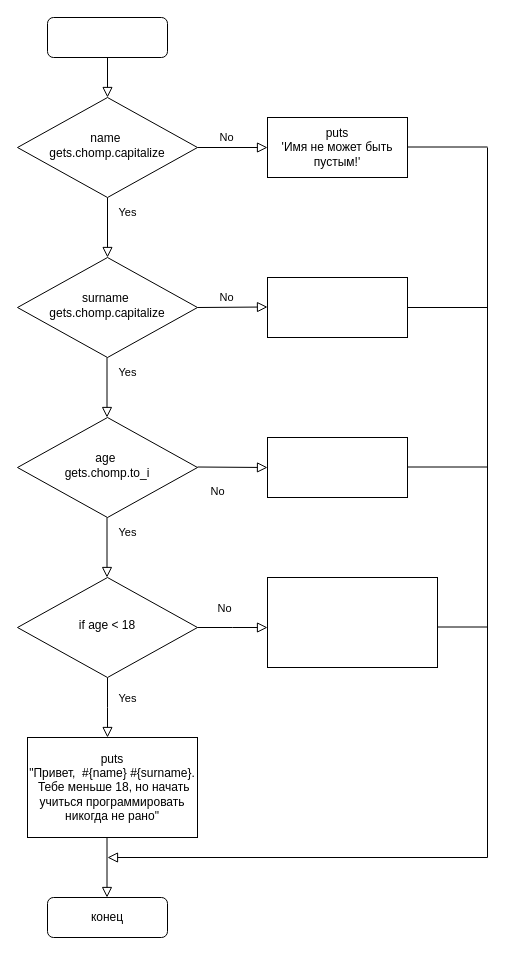
Image size: 515x955. Some labels were removed from this diagram. Each missing label, with the box of its shape:
puts "Возраст не может быть равен #{age}": (266, 436, 408, 498)
puts "Привет, #{name} #{surname}. Самое время заняться делом!": (266, 576, 438, 668)
puts 'Фамилия не может быть пустой!': (266, 276, 408, 338)
начало: (46, 16, 168, 58)
